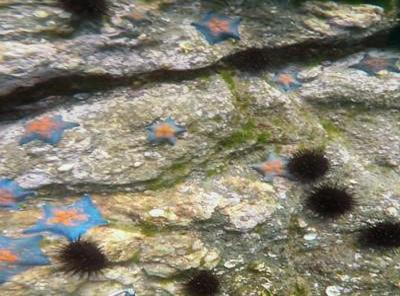urchin: (60, 236, 109, 276), (307, 182, 358, 220), (285, 147, 332, 181), (52, 0, 111, 24), (360, 217, 400, 251), (180, 268, 218, 296)
